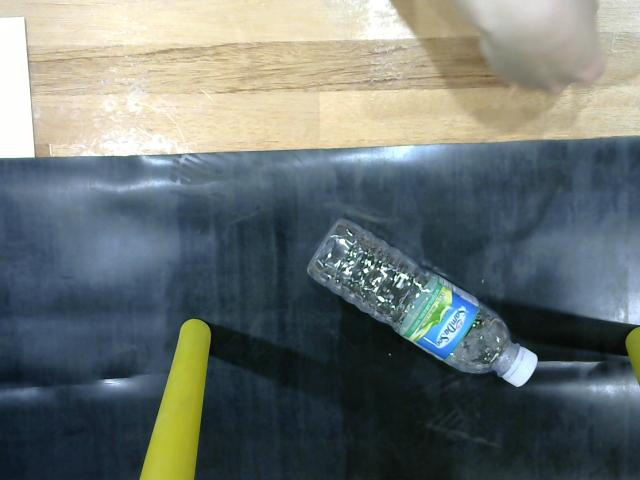bottle: (300, 204, 552, 395)
